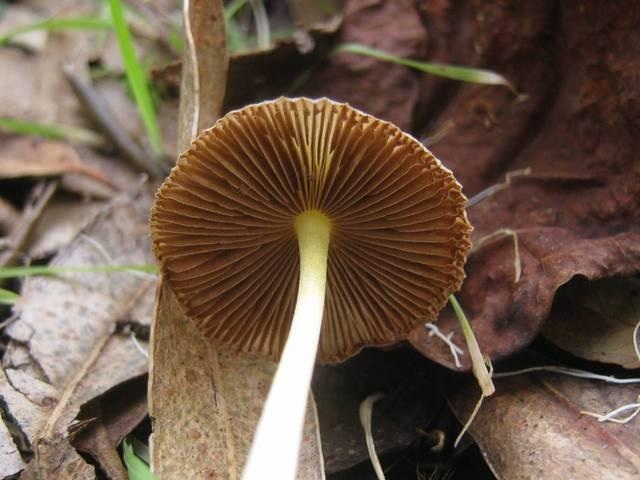Edible Mushroom: (147, 93, 474, 478)
